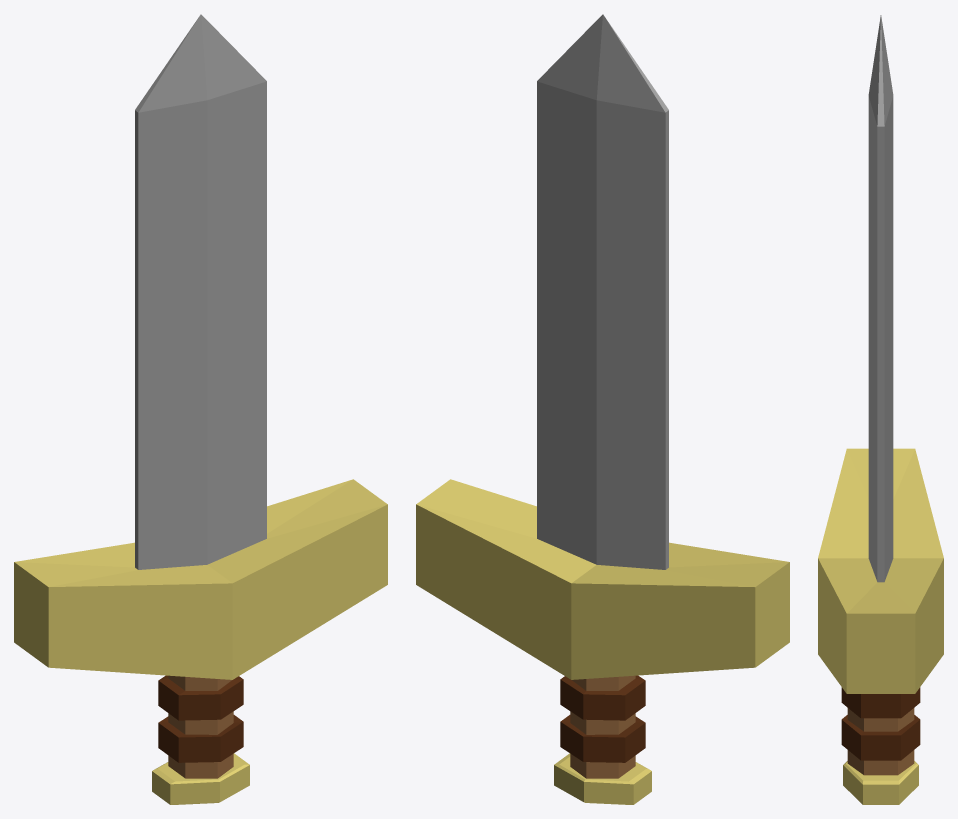
Rendered from sword.fbx.
3 renders of one model, left to right at view 1: azimuth 30°, elevation 25°; view 2: azimuth 150°, elevation 25°; view 3: azimuth 270°, elevation 25°, orthographic.
Parts seen in each view (by area): view 1: Cube; view 2: Cube; view 3: Cube.
Boxes of the visible parts, <box> form: Cube: <box>14,14,387,804</box>; Cube: <box>416,14,789,804</box>; Cube: <box>818,15,943,804</box>.
Bounding box in the file's own units: 37.43 × 81.78 × 12.08.
